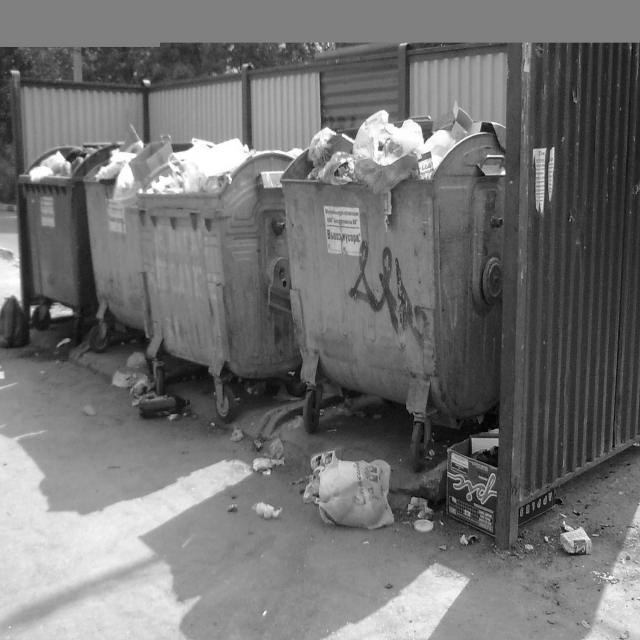bin: (281, 132, 506, 460), (72, 144, 303, 424), (18, 175, 96, 345), (134, 160, 172, 189)
trash: (304, 102, 506, 233), (96, 123, 255, 200), (303, 449, 395, 530), (444, 427, 499, 536), (111, 351, 167, 408), (0, 296, 31, 348), (29, 150, 71, 183), (139, 395, 190, 418), (559, 521, 591, 554), (61, 150, 100, 173), (252, 456, 284, 476), (250, 502, 284, 520), (407, 498, 434, 520), (413, 520, 433, 533), (226, 503, 238, 513)
